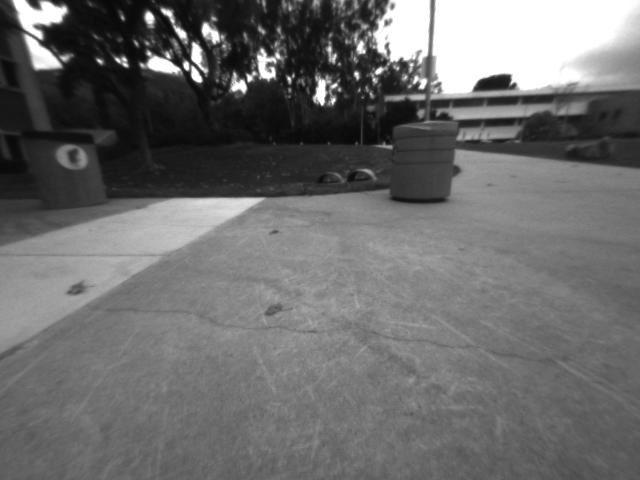trashcan: (9, 128, 120, 215), (387, 121, 464, 207)
